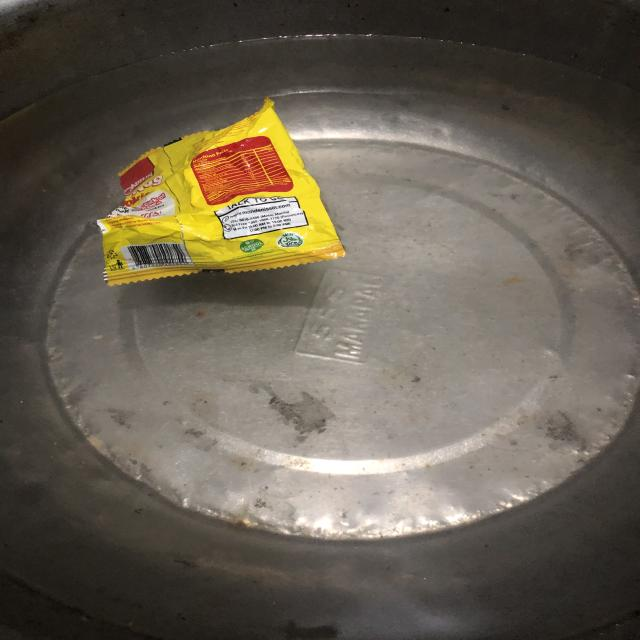Plastic Wrapper: (104, 99, 352, 298)
